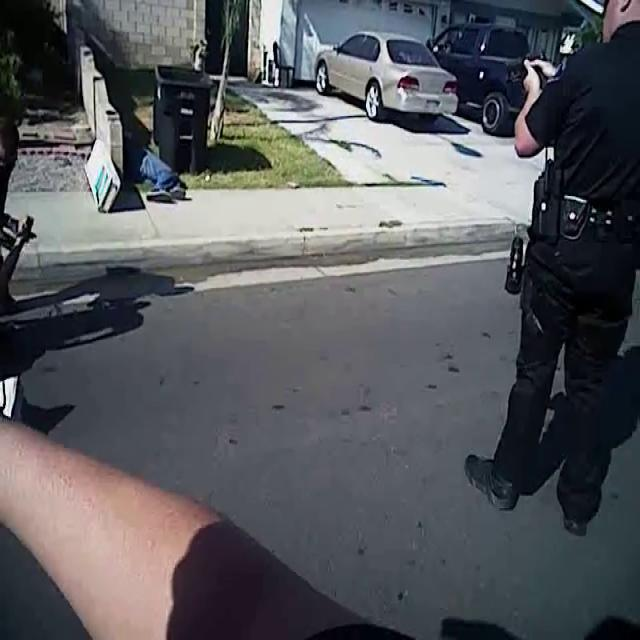gun: (495, 41, 563, 121)
